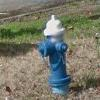a fire hydrant: (38, 14, 74, 86)
